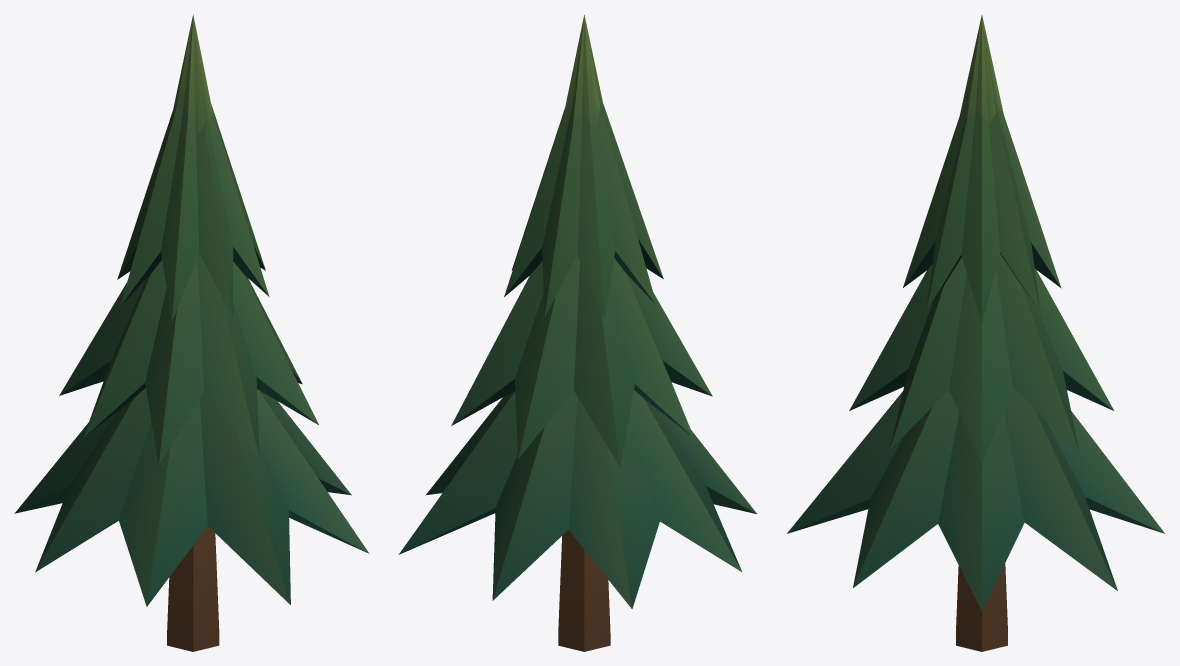
3 views of the same model, side by side, from view 1: azimuth 30°, elevation 25°; view 2: azimuth 150°, elevation 25°; view 3: azimuth 270°, elevation 25° (orthographic).
Visible parts, largest first — view 1: prop_pine_a; view 2: prop_pine_a; view 3: prop_pine_a.
Part boxes in pixels (left/top/right/bottom): prop_pine_a: left=14, top=14, right=369, bottom=651; prop_pine_a: left=398, top=15, right=756, bottom=651; prop_pine_a: left=787, top=15, right=1164, bottom=651.
Bounding box in the file's own units: 3.71 × 7 × 3.85.
